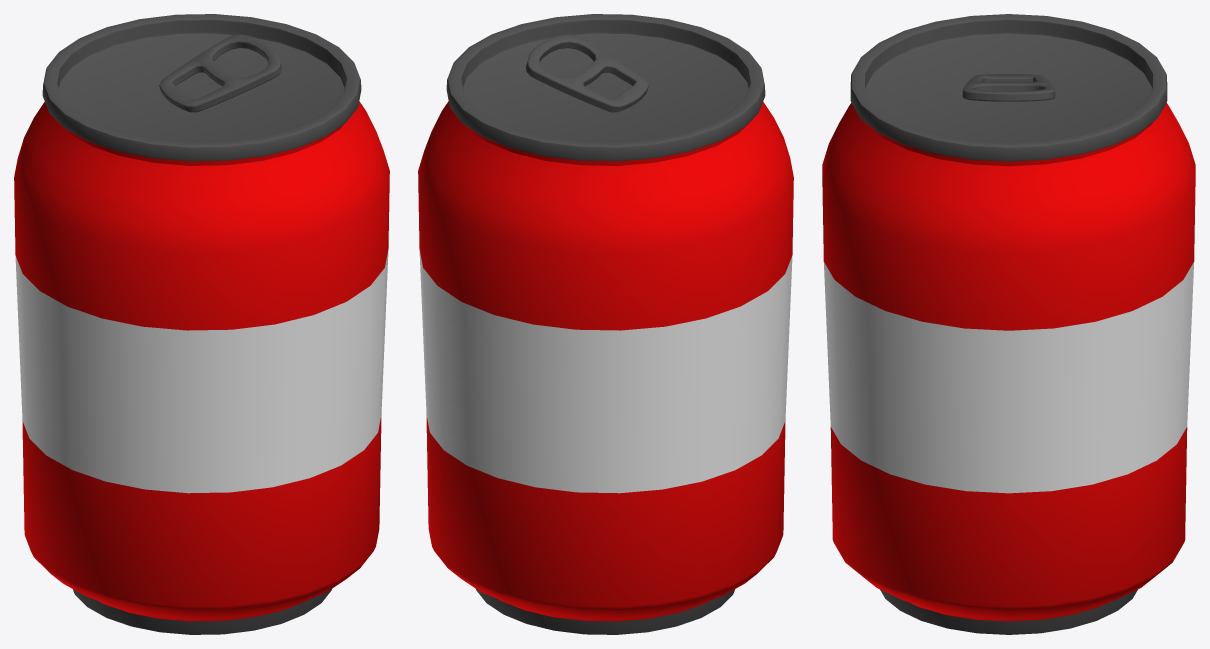
The model's file is Can01.FBX.
3 views of the same model, side by side, from view 1: azimuth 30°, elevation 25°; view 2: azimuth 150°, elevation 25°; view 3: azimuth 270°, elevation 25° (orthographic).
Parts seen in each view (by area): view 1: Cylinder017; view 2: Cylinder017; view 3: Cylinder017.
Boxes of the visible parts, box(x1,y1,x2,y2) form: Cylinder017: box(14, 14, 389, 634); Cylinder017: box(418, 14, 793, 634); Cylinder017: box(822, 14, 1195, 634).
Size of the model in its own units: 364 by 555 by 362.
